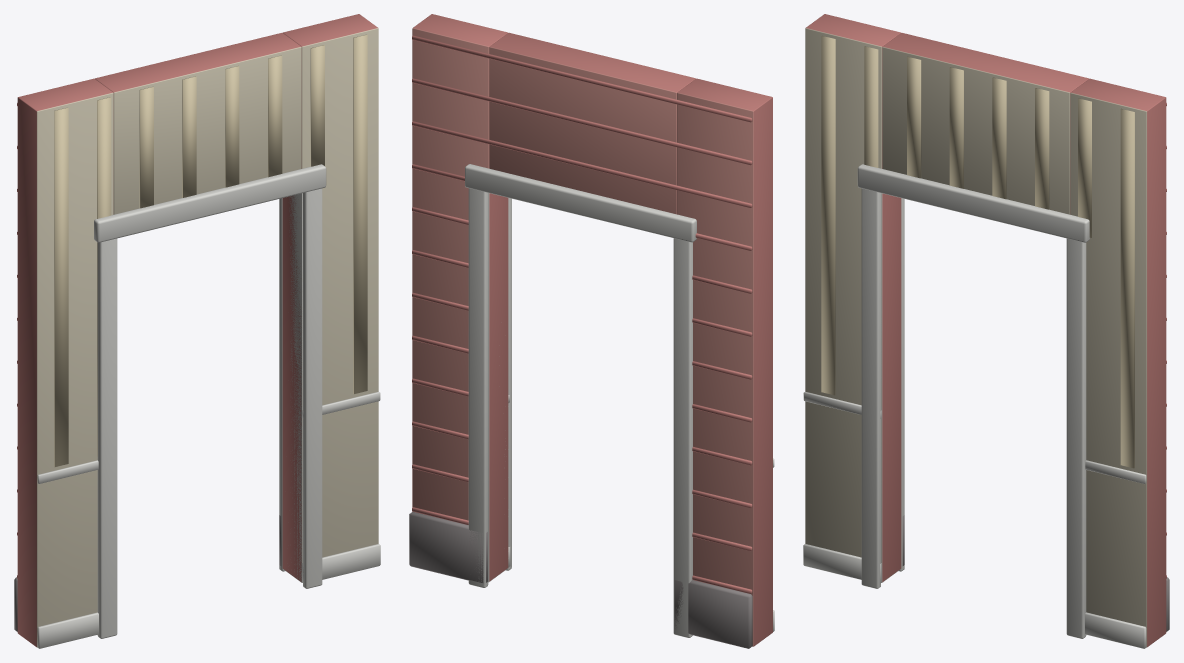
File: wall_door_pink.glb
3 renders of one model, left to right at view 1: azimuth 30°, elevation 25°; view 2: azimuth 150°, elevation 25°; view 3: azimuth 330°, elevation 25°, orthographic.
Visible parts, largest first — view 1: wall_door_pink; view 2: wall_door_pink; view 3: wall_door_pink.
Part boxes in pixels (x1,y1,x2,y2): wall_door_pink: (14, 14, 380, 648); wall_door_pink: (409, 14, 774, 648); wall_door_pink: (803, 14, 1169, 648).
Bounding box in the file's own units: 2 × 3.02 × 0.29.
